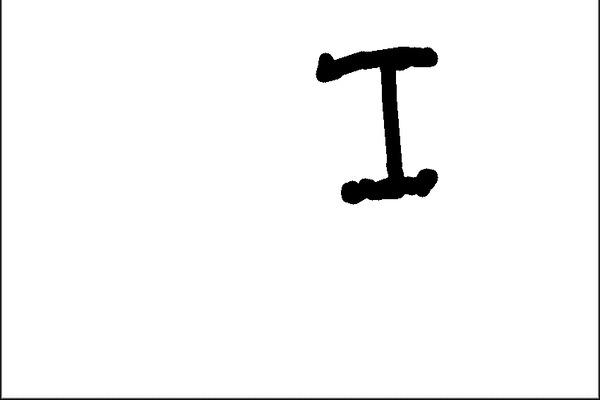i: (305, 34, 464, 214)
